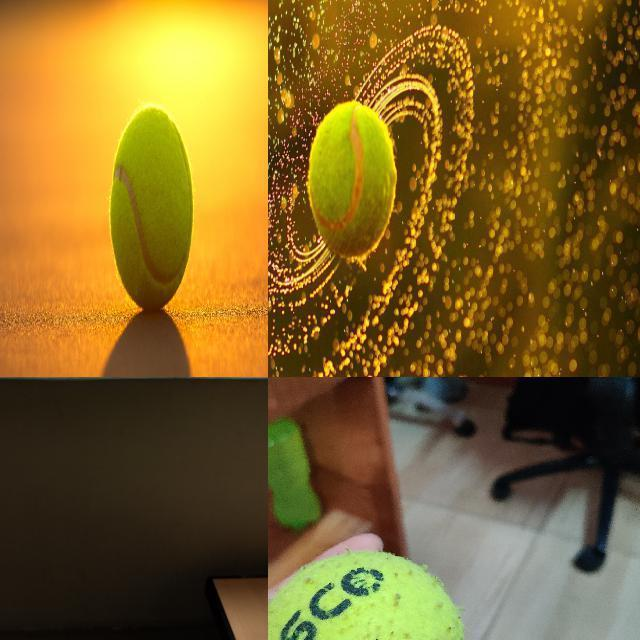tennis-ball: (268, 549, 468, 639), (109, 107, 193, 310), (308, 102, 396, 257)
